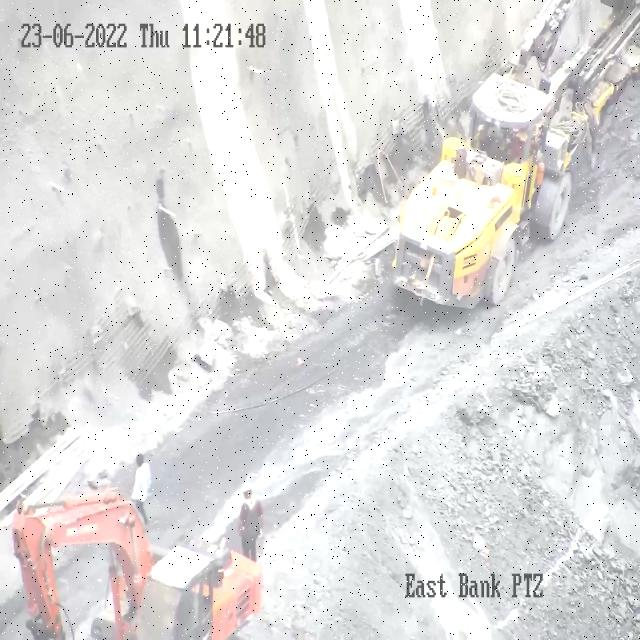Helmet: (242, 482, 252, 491)
